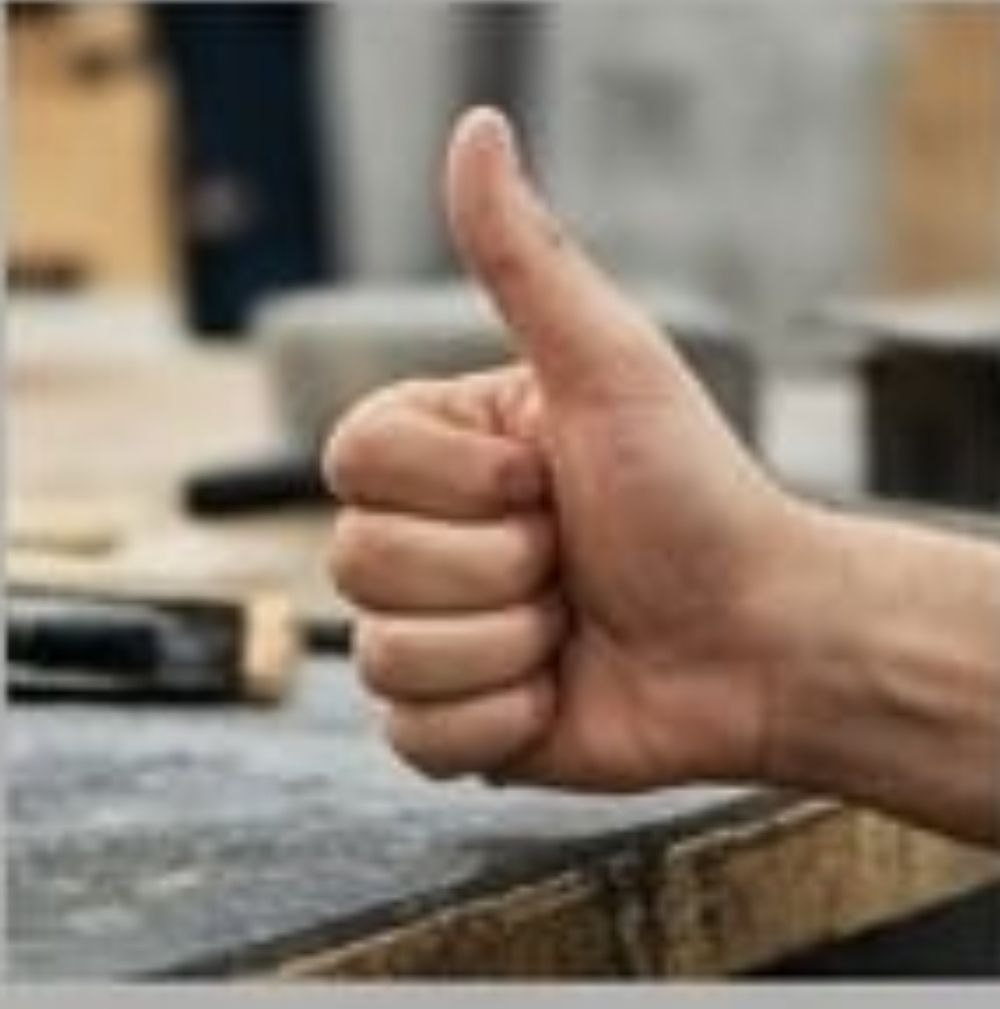Thumbs up: (299, 87, 772, 860)
